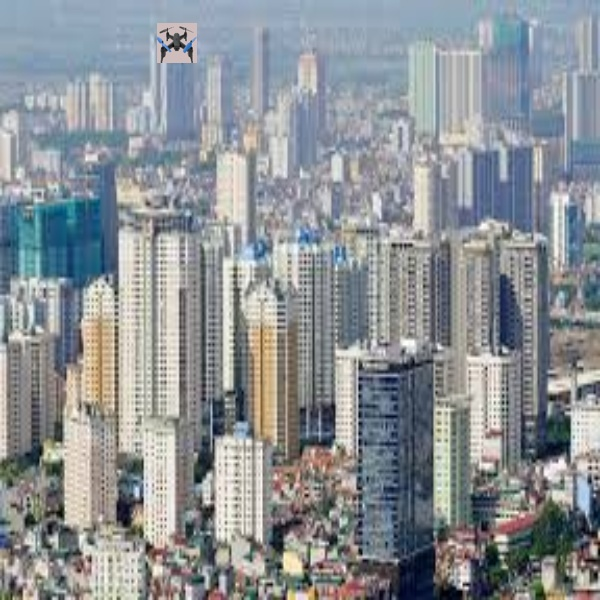drone: (152, 22, 198, 62)
